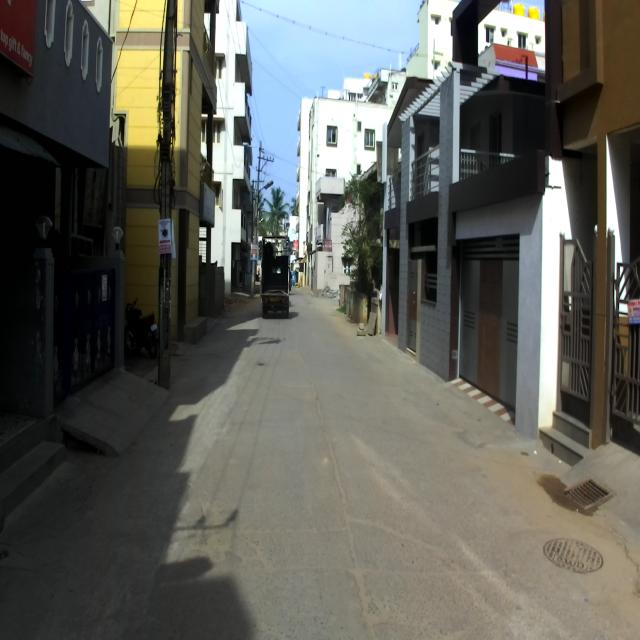electric pole ahead at: (153, 0, 191, 399)
truck ahead at: (258, 228, 291, 320)
